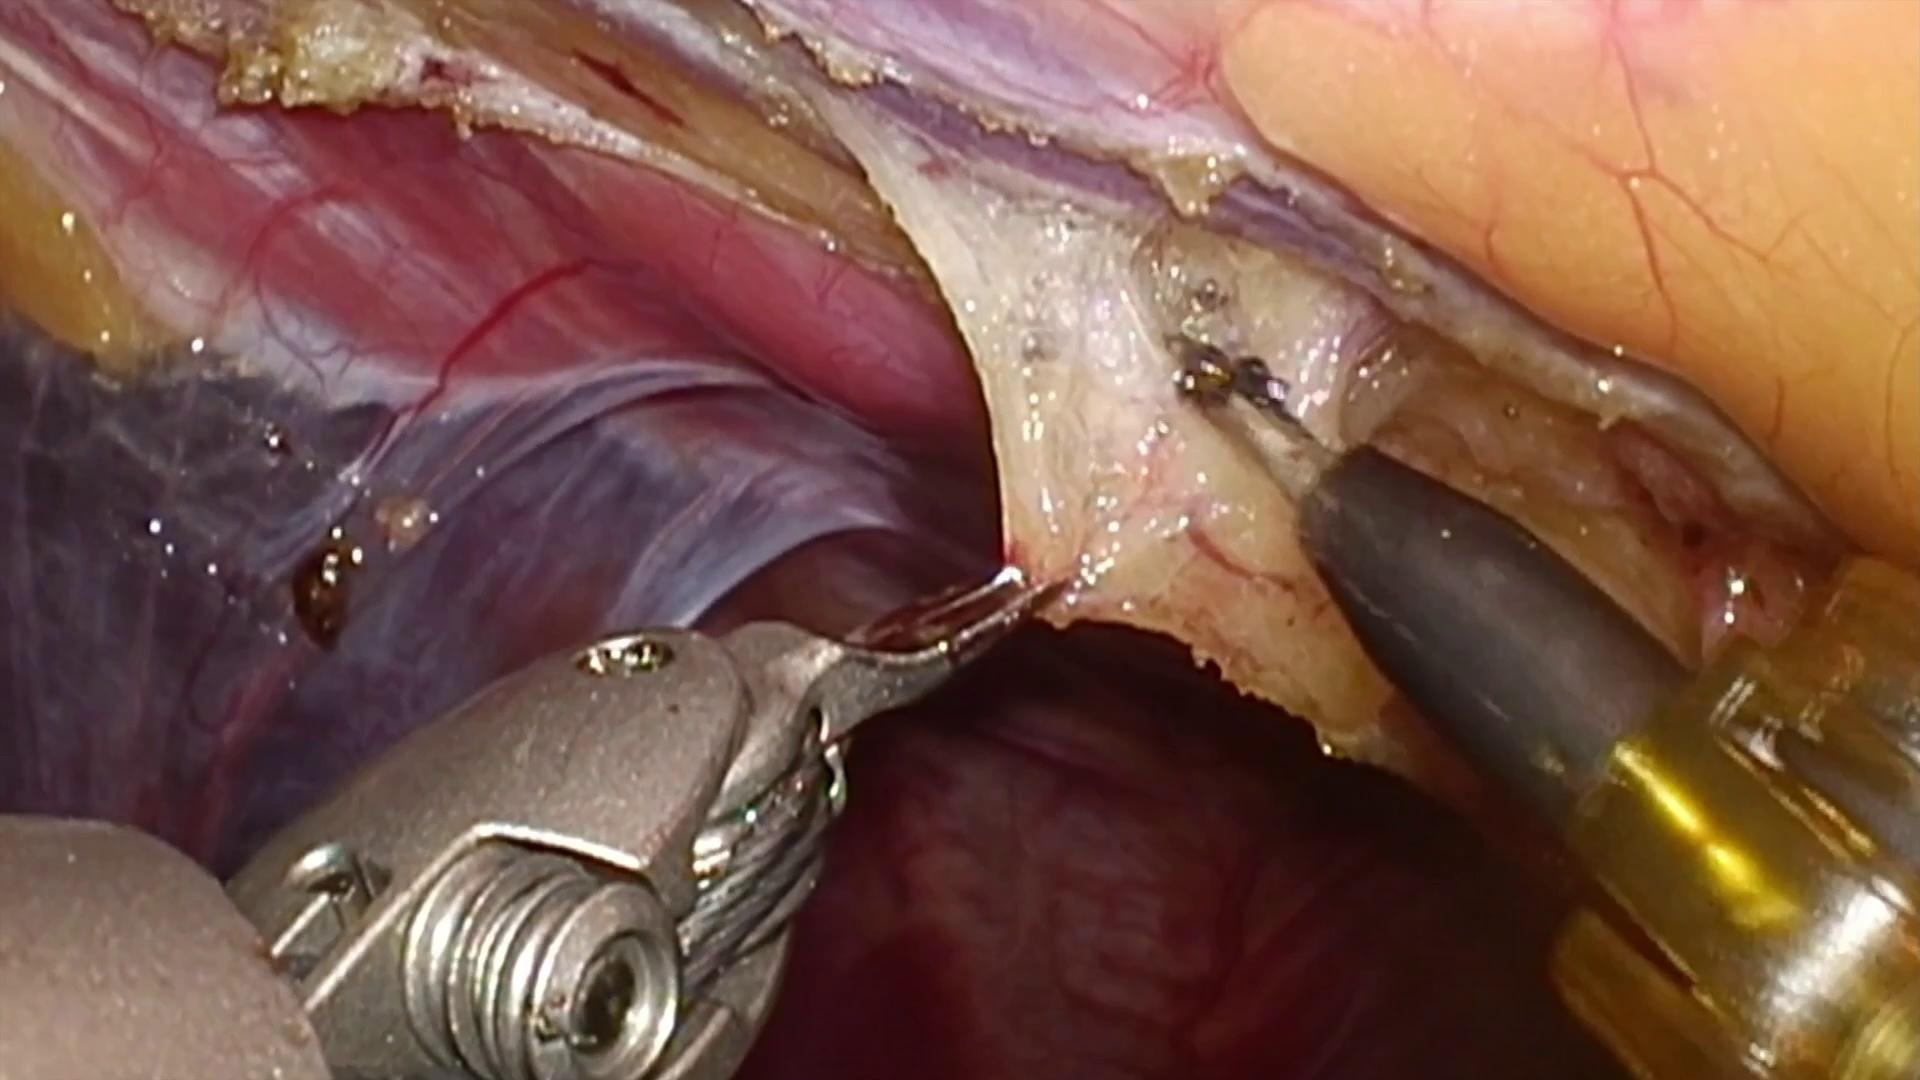Cautery_Spatula: (1178, 355, 1695, 829)
Debakey: (735, 545, 1060, 777)
